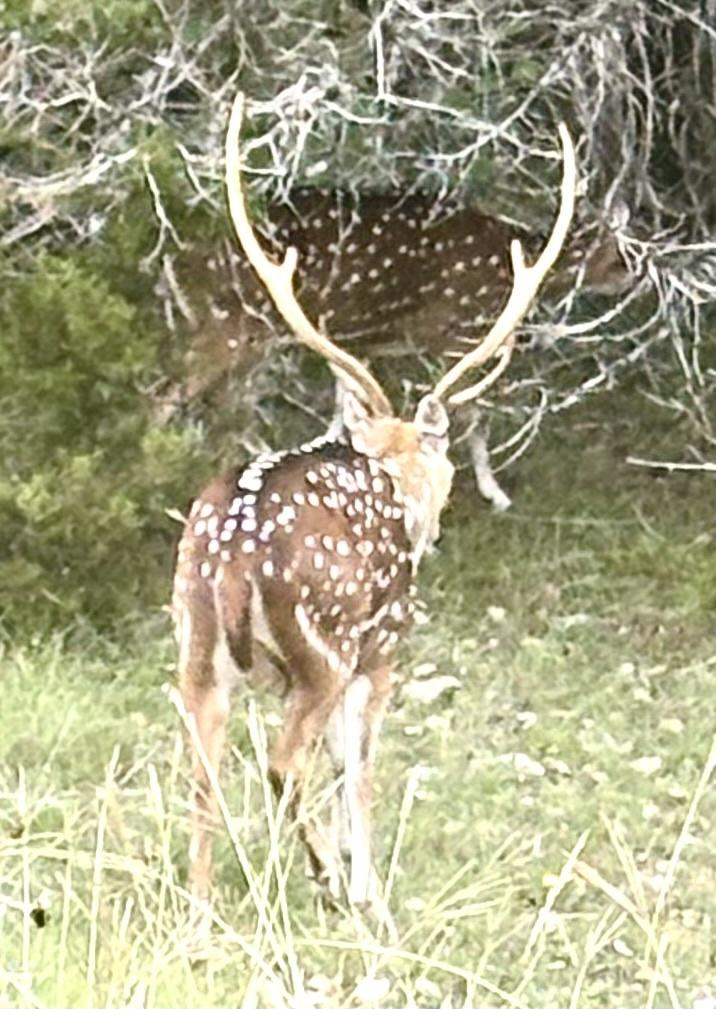Deer: (171, 96, 576, 902)
